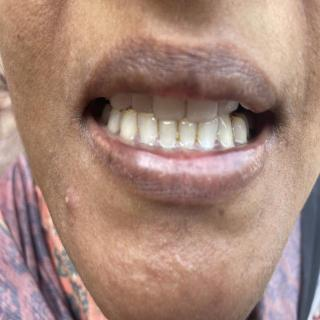maligned: (152, 90, 186, 118), (137, 110, 158, 148), (120, 110, 138, 144), (132, 83, 152, 113), (157, 116, 173, 146)
plaque: (171, 123, 183, 147), (192, 126, 203, 148)
